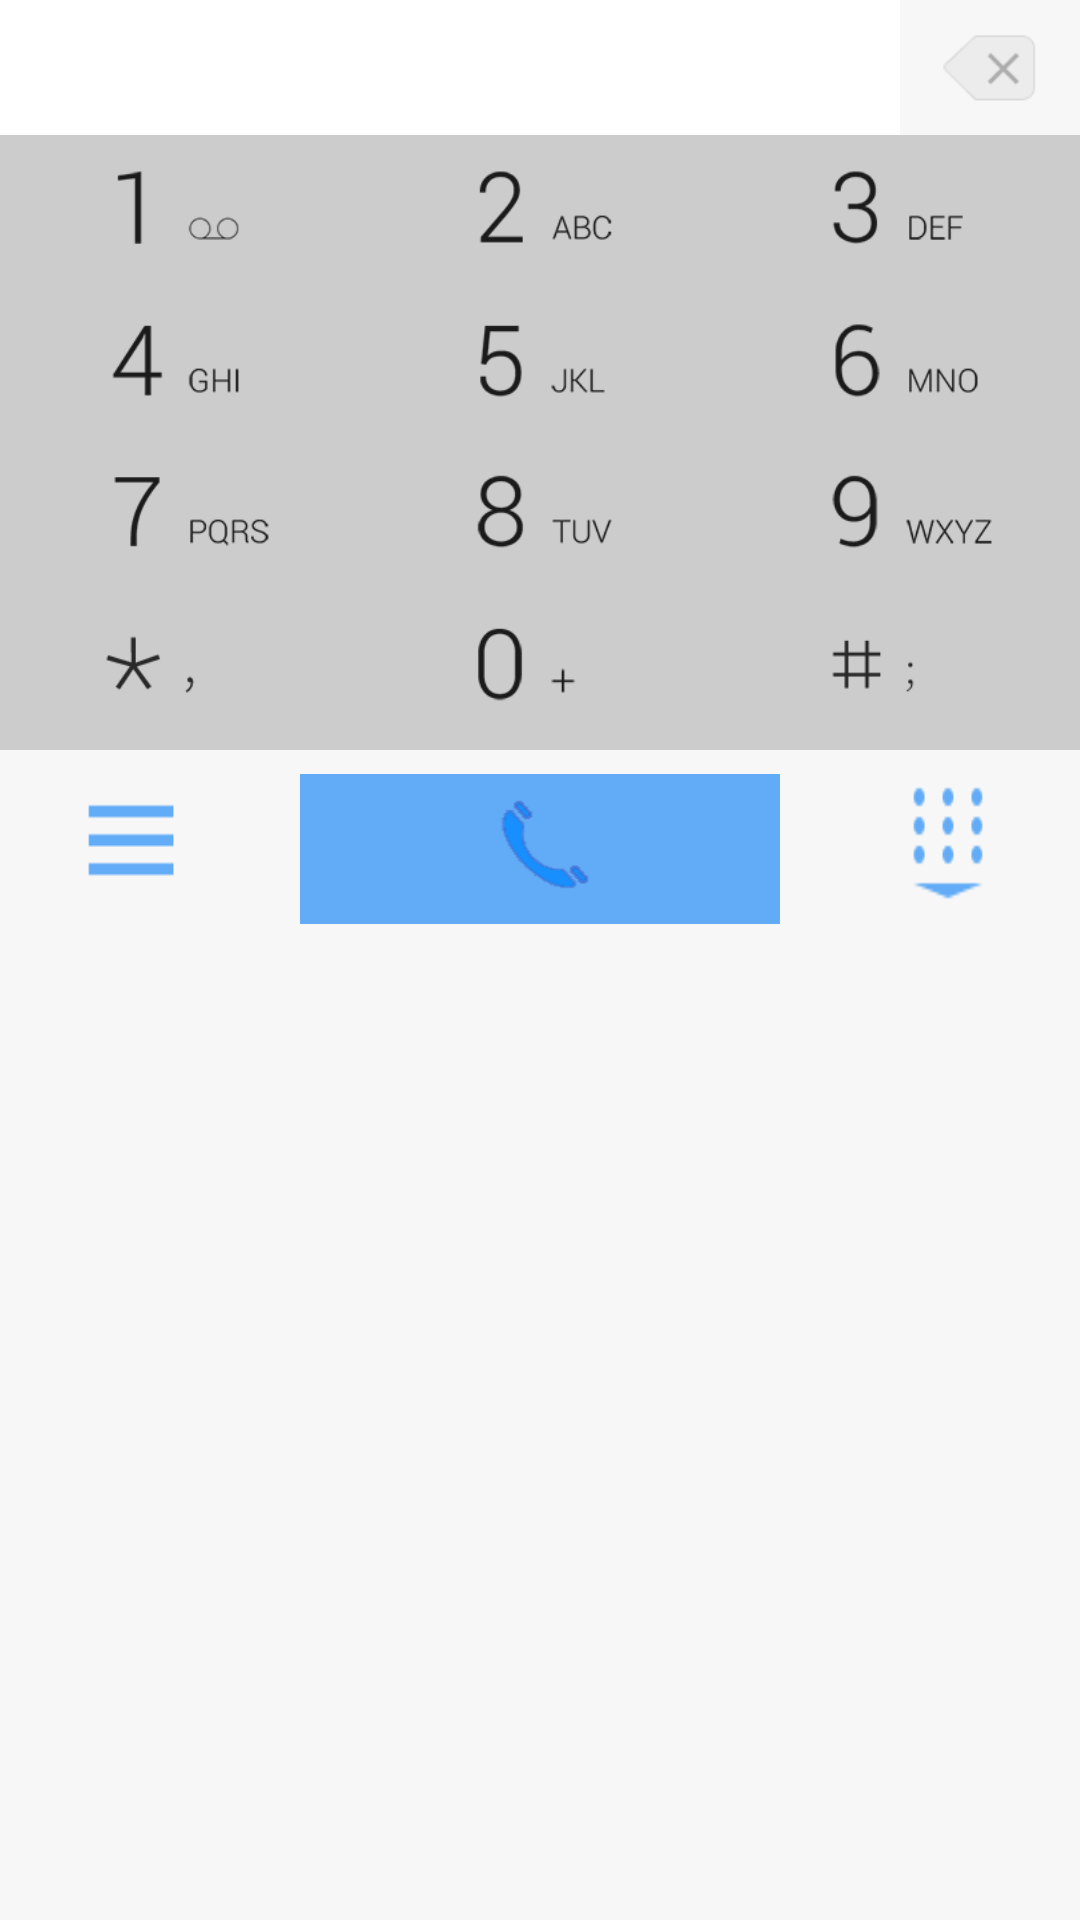

Icons on this 1080*1920 Android screen, each with its box as [x1, y1, x2, y2]:
dial delete: [943, 35, 1035, 101]
toggle dialer down: [913, 787, 983, 899]
